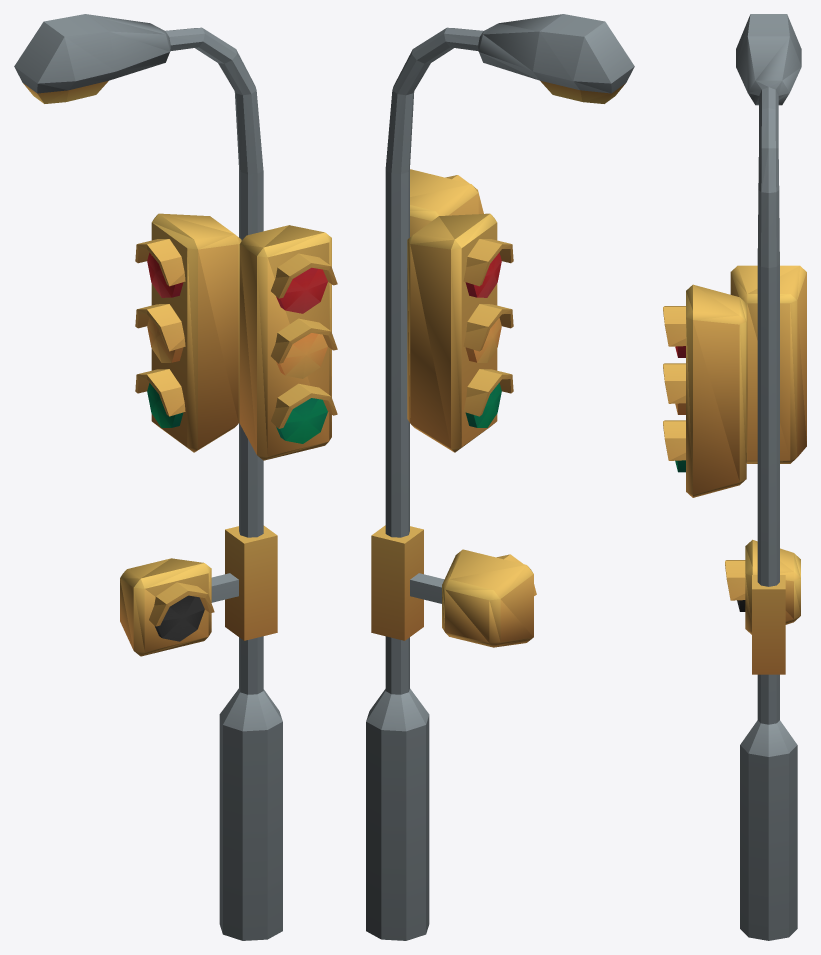
The model's file is kyc_trafficlight_b.fbx.
The picture shows the model from 3 angles, left to right: view 1: azimuth 30°, elevation 25°; view 2: azimuth 150°, elevation 25°; view 3: azimuth 270°, elevation 25°; orthographic projection. The views are drawn at different scales.
Parts seen in each view (by area): view 1: kyc_trafficlight_b_LOD0; view 2: kyc_trafficlight_b_LOD0; view 3: kyc_trafficlight_b_LOD0.
Part boxes in pixels (<box>): kyc_trafficlight_b_LOD0: <box>14,14,337,940</box>; kyc_trafficlight_b_LOD0: <box>366,14,634,940</box>; kyc_trafficlight_b_LOD0: <box>663,14,806,940</box>.
Size of what is drawn, in the model's own units: 1.28 by 4.4 by 0.6902.
